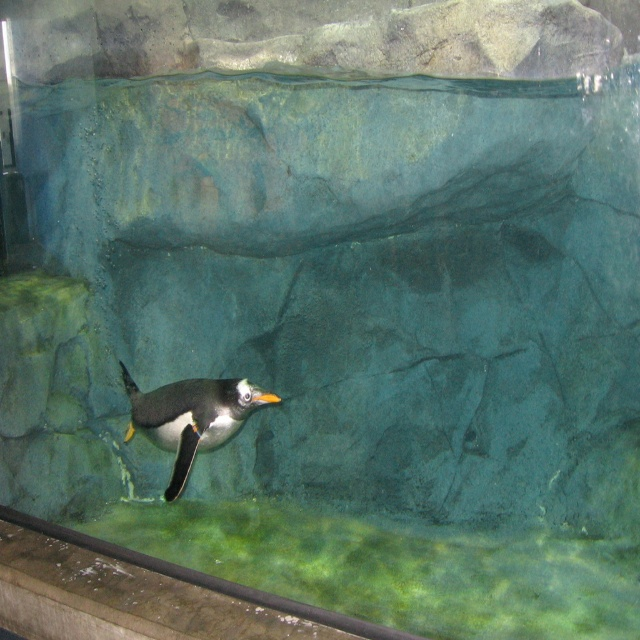Penguin: (115, 353, 282, 503)
